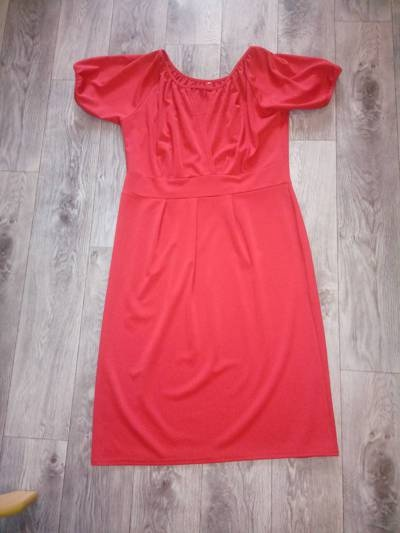Dress: (54, 25, 370, 475)
